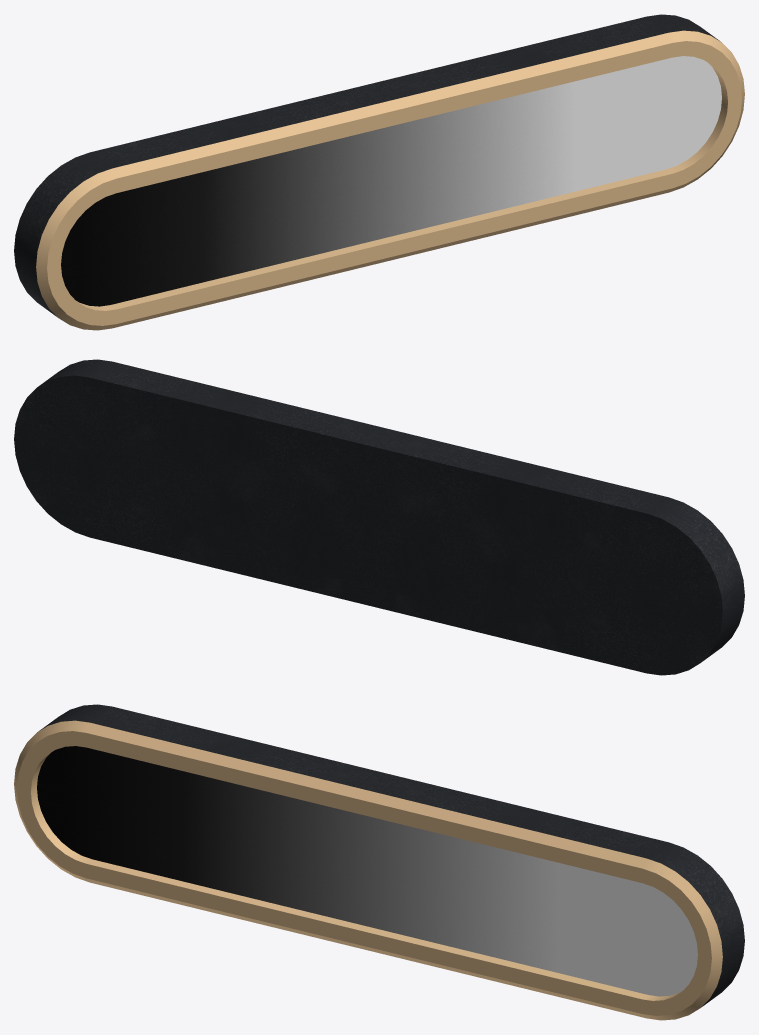
The model's file is shopZoneColorPicker.Value.gltf.
The picture shows the model from 3 angles, top to bottom: view 1: azimuth 30°, elevation 25°; view 2: azimuth 150°, elevation 25°; view 3: azimuth 330°, elevation 25°; orthographic projection.
Parts seen in each view (by area): view 1: value.tint, shopZone.sign.001; view 2: shopZone.sign.001; view 3: value.tint, shopZone.sign.001.
Part boxes in pixels (x1,y1,x2,y2): value.tint: (61,56,721,306); shopZone.sign.001: (14,14,744,330); shopZone.sign.001: (14,359,744,675); value.tint: (37,746,697,996); shopZone.sign.001: (14,704,744,1020).
Bounding box in the file's own units: 3.06 × 0.66 × 0.195.
3 materials, 2 textured.
